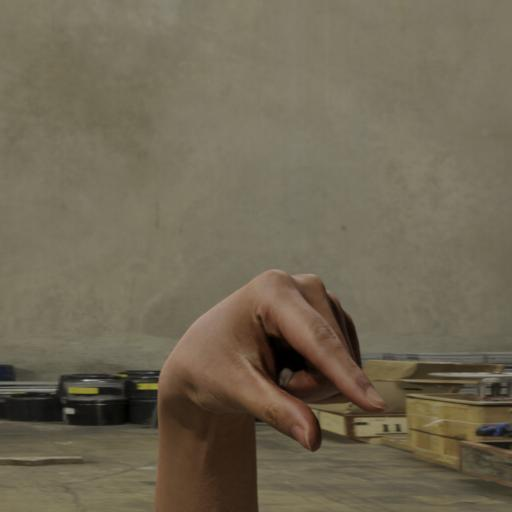Q: (139, 259, 393, 451)
